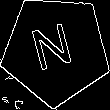N_S: (31, 21, 81, 80)
